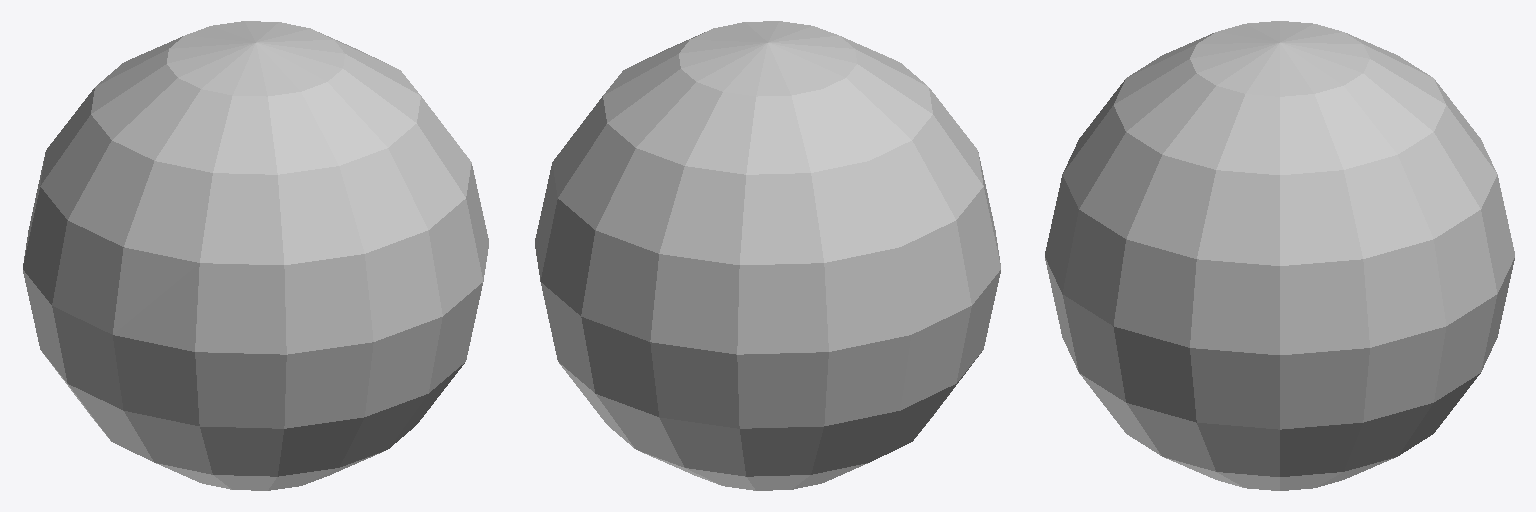
File: bola9.obj
3 renders of one model, left to right at view 1: azimuth 30°, elevation 25°; view 2: azimuth 150°, elevation 25°; view 3: azimuth 270°, elevation 25°, orthographic.
Visible parts, largest first — view 1: POOL_TABLE.033; view 2: POOL_TABLE.033; view 3: POOL_TABLE.033.
Boxes of the visible parts, box(x1,y1,x2,y2) form: POOL_TABLE.033: box(23, 21, 488, 490); POOL_TABLE.033: box(535, 21, 1000, 490); POOL_TABLE.033: box(1045, 21, 1514, 490).
Bounding box in the file's own units: 0.0585 × 0.0585 × 0.0585.